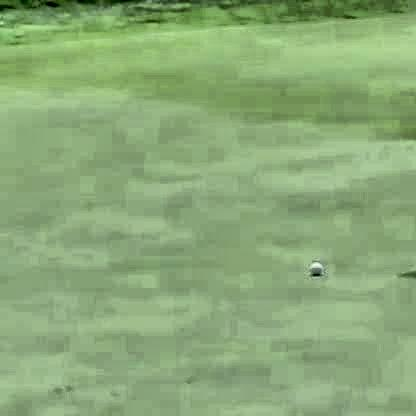golfball: (307, 260, 320, 273)
